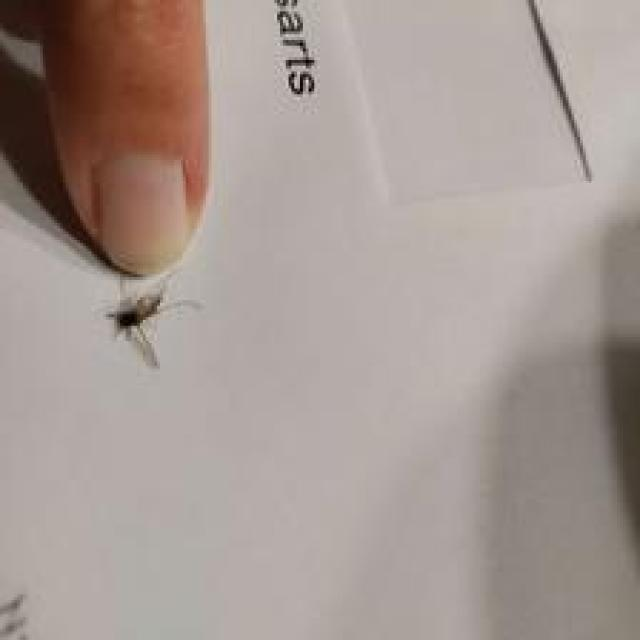Culex: (103, 273, 203, 370)
